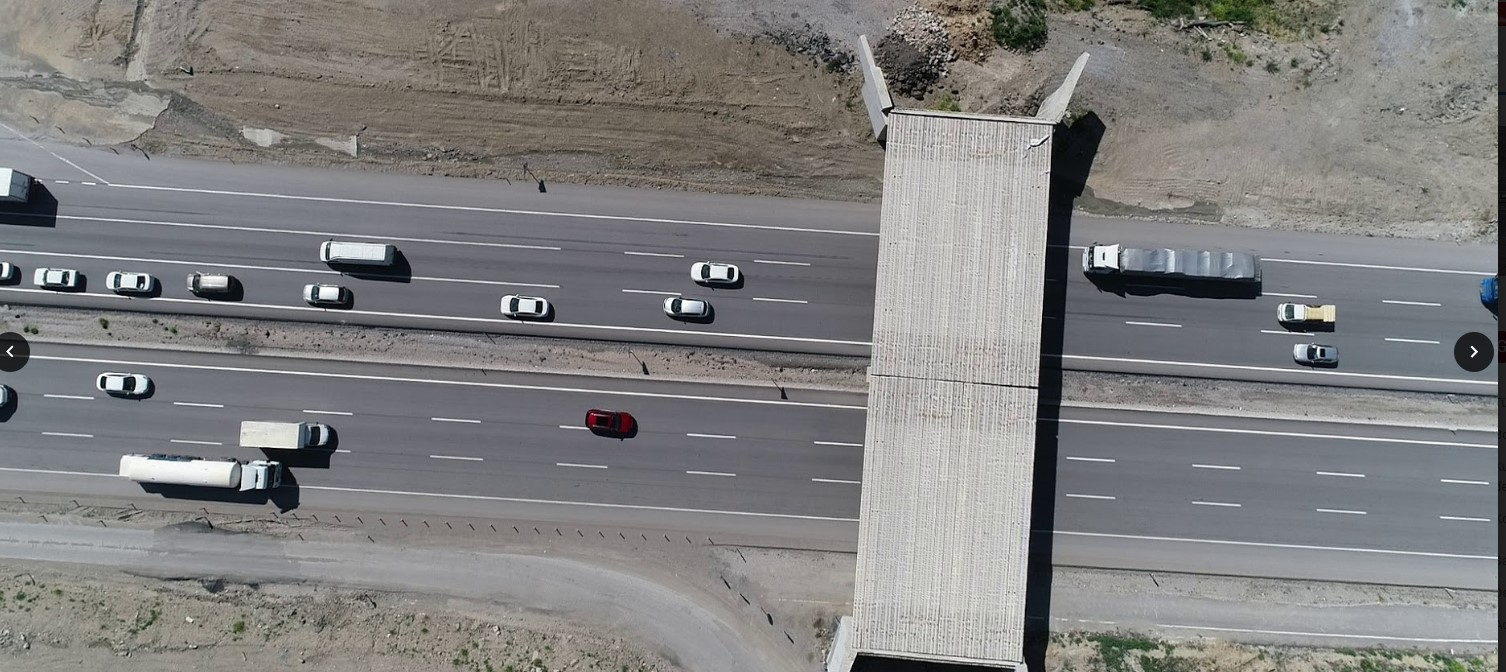araba: (1078, 233, 1265, 294), (111, 453, 284, 499), (227, 416, 345, 453), (316, 229, 404, 268), (88, 366, 150, 402), (1274, 298, 1350, 326), (580, 408, 646, 439), (494, 291, 551, 325), (99, 269, 155, 301), (1285, 342, 1342, 371), (302, 279, 352, 312), (184, 271, 239, 299), (688, 260, 747, 286), (665, 291, 716, 317), (31, 271, 83, 294)
